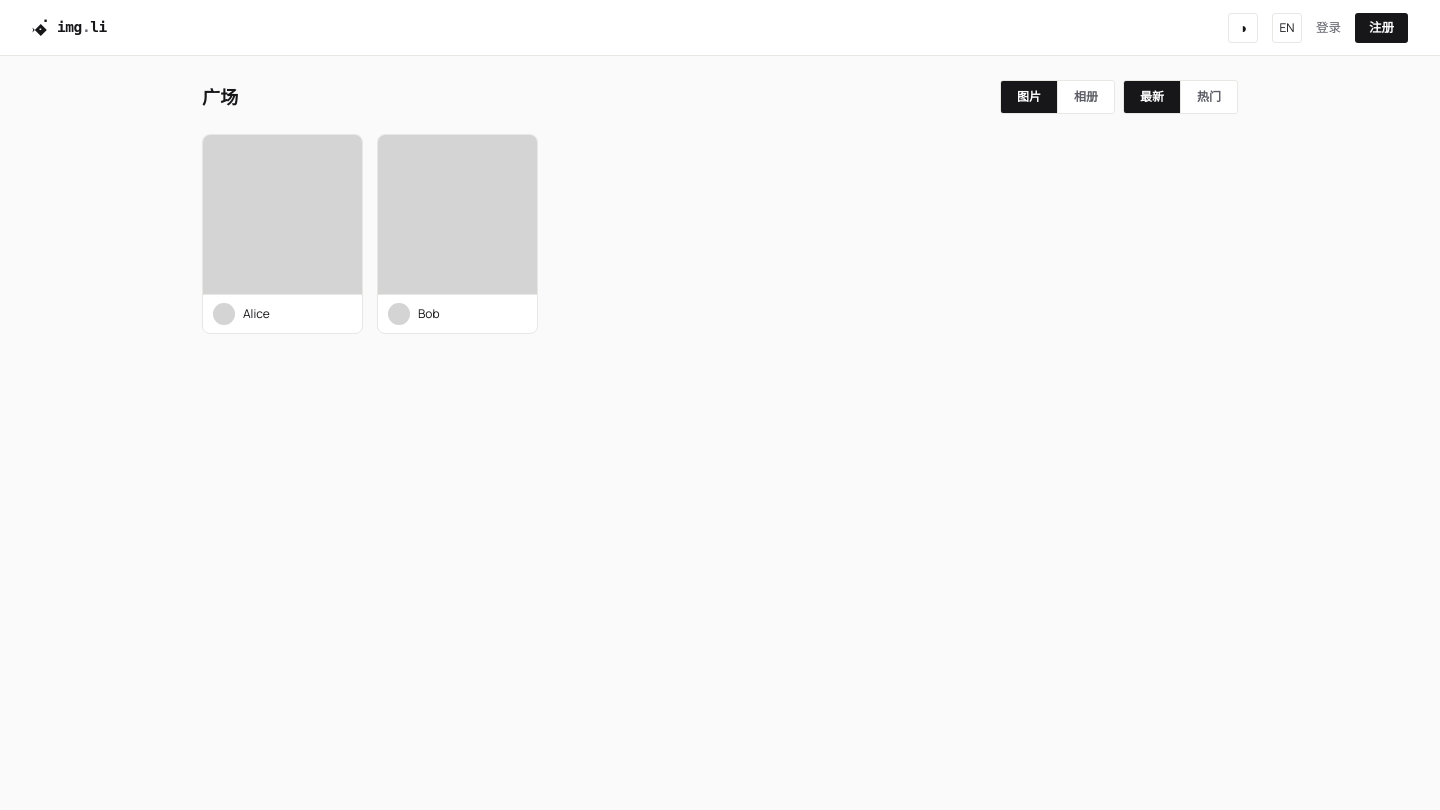
Scenario: Explore lightbox：点卡片出现大图与复制按钮
Click the button "Alice" at {"x": 282, "y": 234}, box [202,134,363,334]
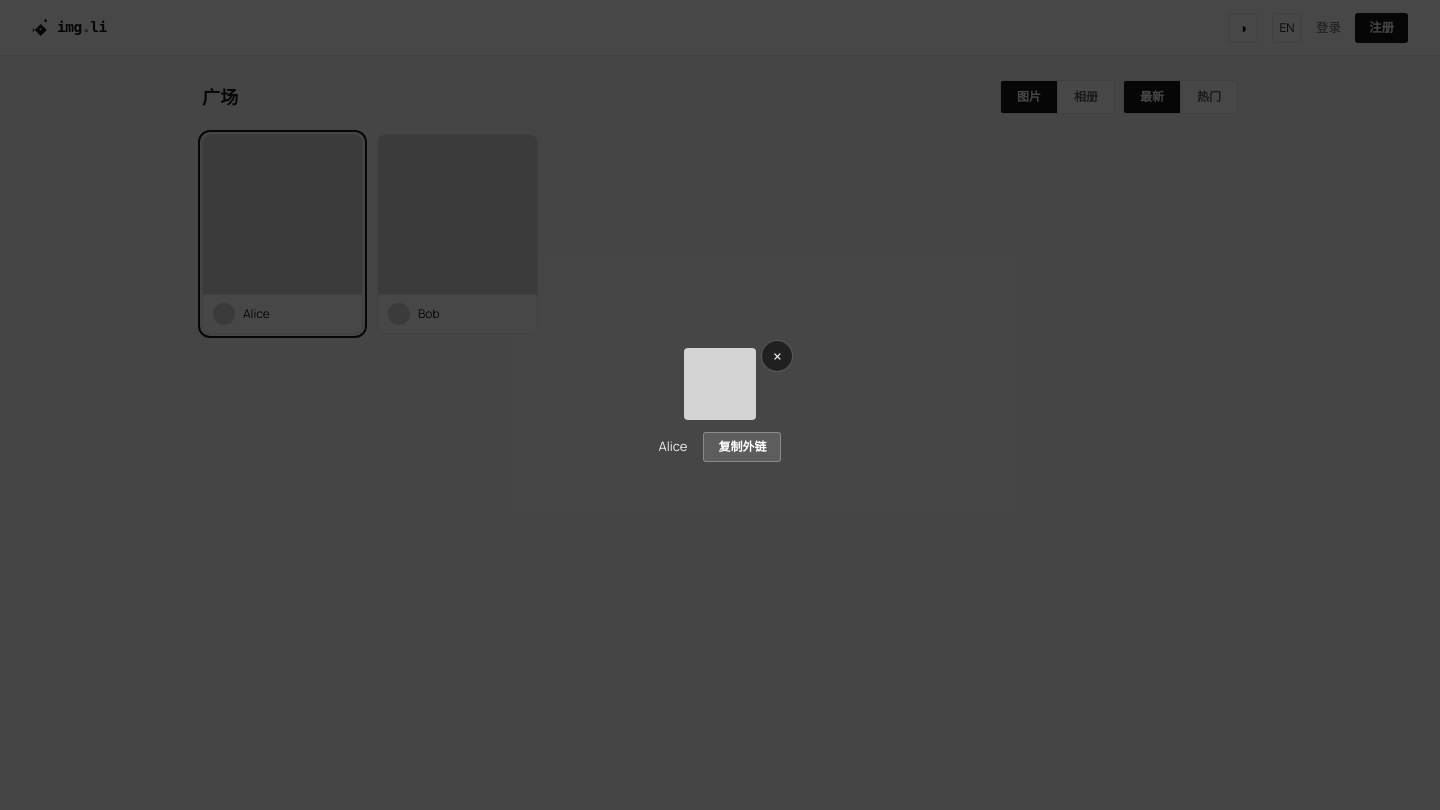
Expected: the dialog is shown, [654,348,785,462]
Expected: the button "复制外链" is shown, [703,432,781,462]
